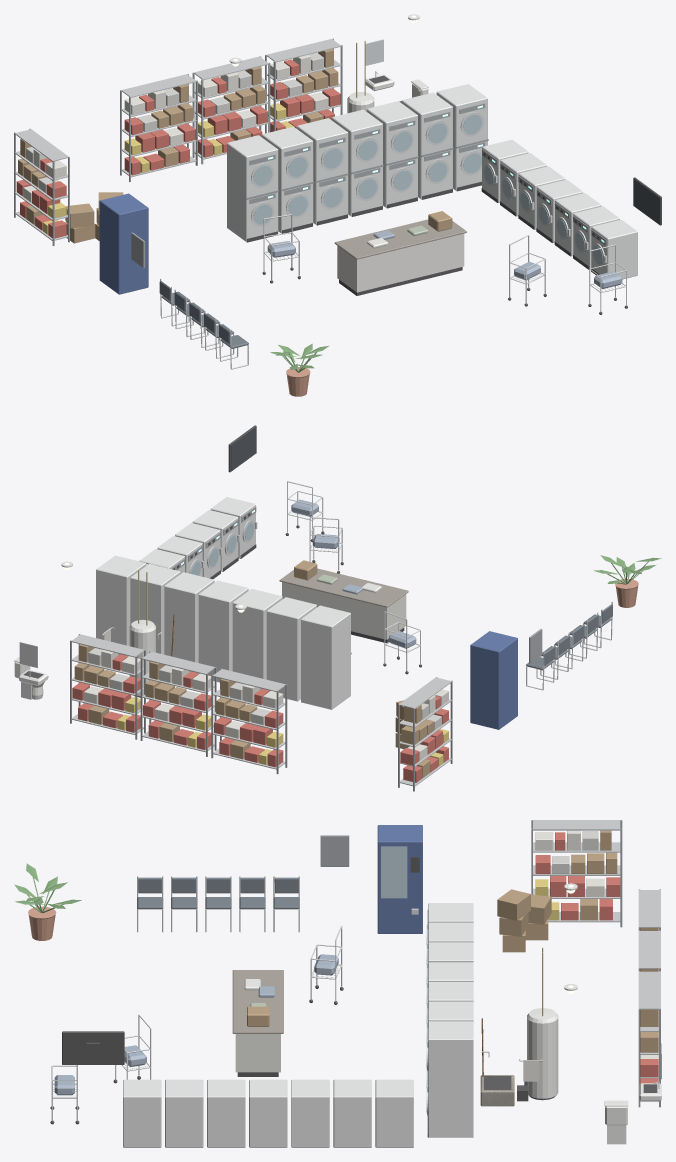
Rendered from shop_laundry.glb.
3 views of the same model, one above another, from view 1: azimuth 30°, elevation 25°; view 2: azimuth 150°, elevation 25°; view 3: azimuth 270°, elevation 25° (orthographic). The views are drawn at different scales.
Visible parts, largest first — view 1: shop_laundry_washer, shop_laundry_food_r, shop_laundry_chrome, shop_laundry_steel, shop_laundry_basket, shop_laundry_metal, shop_laundry_glass, shop_laundry_cab, shop_laundry_flag_b, shop_laundry_paper, shop_laundry_dark, shop_laundry_ctop (+8 smaller); view 2: shop_laundry_washer, shop_laundry_food_r, shop_laundry_metal, shop_laundry_basket, shop_laundry_flag_b, shop_laundry_chrome, shop_laundry_steel, shop_laundry_cab, shop_laundry_paper, shop_laundry_ctop, shop_laundry_cart_w, shop_laundry_vinyl (+8 smaller); view 3: shop_laundry_washer, shop_laundry_basket, shop_laundry_metal, shop_laundry_vinyl, shop_laundry_flag_b, shop_laundry_dark, shop_laundry_chrome, shop_laundry_paint_w, shop_laundry_food_r, shop_laundry_ctop, shop_laundry_steel, shop_laundry_cab (+8 smaller).
Part boxes in pixels (x1,y1,x2,y2): shop_laundry_washer: (227,84,637,279); shop_laundry_food_r: (16,59,340,238); shop_laundry_chrome: (160,39,626,369); shop_laundry_steel: (14,38,606,268); shop_laundry_basket: (18,49,452,243); shop_laundry_metal: (14,39,341,240); shop_laundry_glass: (253,114,602,264); shop_laundry_cab: (337,233,464,292); shop_laundry_flag_b: (99,193,148,294); shop_laundry_paper: (23,54,328,202); shop_laundry_dark: (247,75,661,314); shop_laundry_ctop: (334,219,466,259); shop_laundry_washer: (96,497,350,709); shop_laundry_food_r: (72,654,448,782); shop_laundry_metal: (71,634,451,786); shop_laundry_basket: (74,560,433,778); shop_laundry_flag_b: (470,631,517,729); shop_laundry_chrome: (19,481,612,690); shop_laundry_steel: (70,506,542,791); shop_laundry_cab: (282,582,406,639); shop_laundry_paper: (84,628,448,760); shop_laundry_ctop: (279,568,408,607); shop_laundry_cart_w: (88,648,441,730); shop_laundry_vinyl: (526,603,612,670); shop_laundry_washer: (123,903,473,1147); shop_laundry_basket: (247,830,658,1052); shop_laundry_metal: (533,820,660,1101); shop_laundry_vinyl: (137,877,299,909); shop_laundry_flag_b: (377,825,422,933); shop_laundry_dark: (50,857,657,1137); shop_laundry_chrome: (51,876,661,1120); shop_laundry_paint_w: (527,883,577,1098); shop_laundry_food_r: (535,832,658,1083); shop_laundry_ctop: (232,970,283,1033); shop_laundry_steel: (320,820,660,1107); shop_laundry_cab: (235,1034,280,1072).
Bounding box in the file's own units: 9.6 × 2.83 × 11.4.
32 materials, 2 textured.
